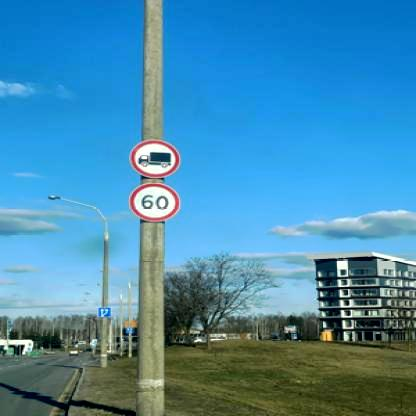Speed Limit -60-: (129, 180, 184, 222)
